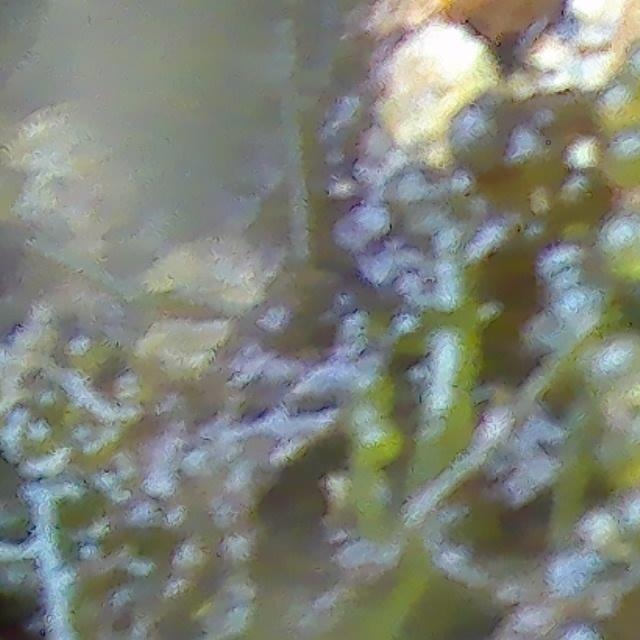SeaGrape: (602, 216, 640, 280)
